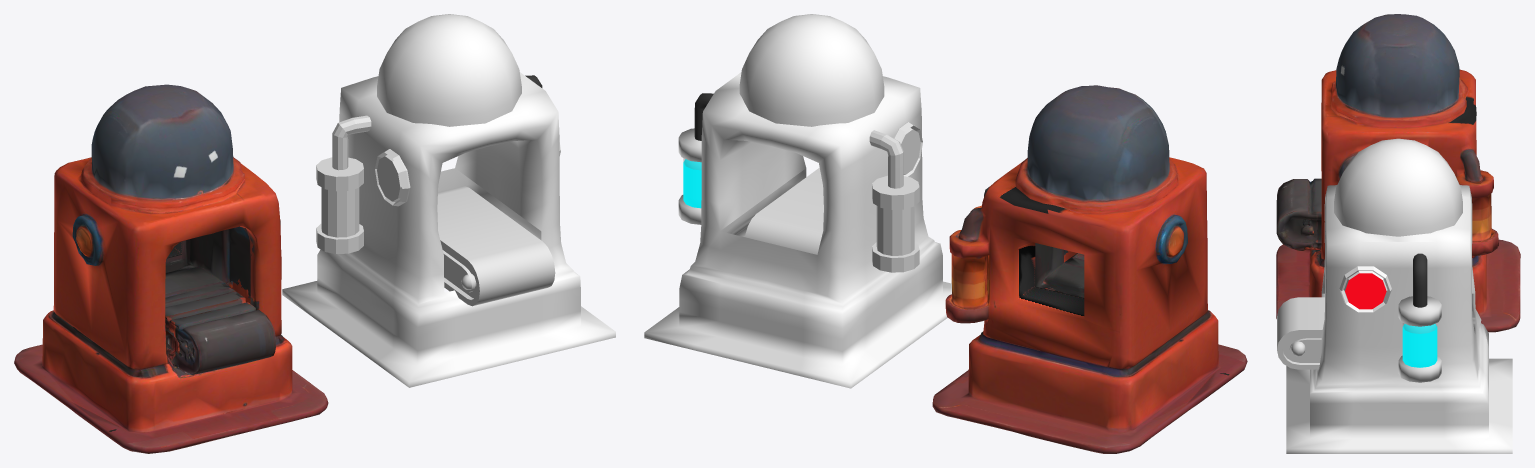
3 views of the same model, side by side, from view 1: azimuth 30°, elevation 25°; view 2: azimuth 150°, elevation 25°; view 3: azimuth 270°, elevation 25° (orthographic). The views are drawn at different scales.
Parts seen in each view (by area): view 1: Mesh1, Cube, black metalic, Cylinder, botella.001, luz 1.001, botellatop.001, caño.001, botellabase.001; view 2: Mesh1, Cube, black metalic, Cylinder, botella.001, botellatop.001, caño.001, luz 1.001, botellabase.001, botella, botellatop; view 3: Cube, Mesh1, black metalic, Cylinder, luz 1, botella, botellatop, caño, botellabase.
Part boxes in pixels (<box>): Mesh1: <box>14,84,328,453</box>; Cube: <box>282,72,615,387</box>; black metalic: <box>377,14,521,126</box>; Cylinder: <box>437,186,555,306</box>; botella.001: <box>321,187,359,237</box>; luz 1.001: <box>375,149,410,206</box>; botellatop.001: <box>316,157,363,191</box>; caño.001: <box>332,115,371,170</box>; botellabase.001: <box>316,224,363,253</box>; Mesh1: <box>932,85,1247,453</box>; Cube: <box>644,72,951,388</box>; black metalic: <box>739,14,884,126</box>; Cylinder: <box>745,168,823,254</box>; botella.001: <box>876,206,914,255</box>; botellatop.001: <box>872,175,919,209</box>; caño.001: <box>869,130,903,188</box>; luz 1.001: <box>894,122,922,176</box>; botellabase.001: <box>872,242,919,272</box>; botella: <box>683,158,701,208</box>; botellatop: <box>678,128,701,162</box>; Cube: <box>1286,185,1512,453</box>; Mesh1: <box>1276,14,1520,332</box>; black metalic: <box>1334,138,1462,236</box>; Cylinder: <box>1277,297,1324,369</box>; luz 1: <box>1339,266,1391,312</box>; botella: <box>1402,323,1437,367</box>; botellatop: <box>1398,296,1441,326</box>; caño: <box>1413,253,1427,307</box>; botellabase: <box>1398,355,1441,382</box>.
Size of the model in its own units: 3.58 by 2.04 by 1.7.
7 materials, 1 textured.
